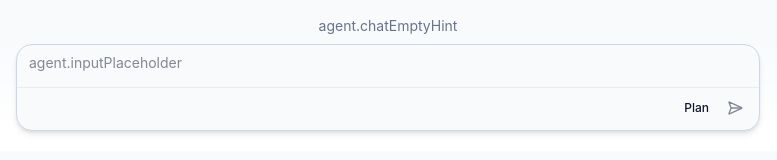
it: ChatStream running state › closes the mention popup on Escape
Type "@mai" into the text box with placeholder "agent.inputPlaceholder". click: (388, 63)
box: [17,45,759,81]
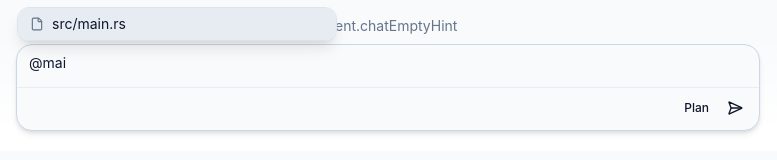
expect the text "src/main.rs" is shown: met, box [52,14,126,34]
Press Escape in the text box with placeholder "agent.inputPlaceholder", box [17,45,759,81]
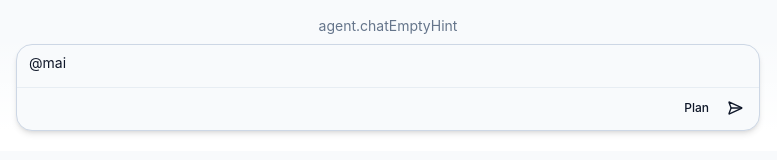
expect the button "src/main.rs" is gone: met
